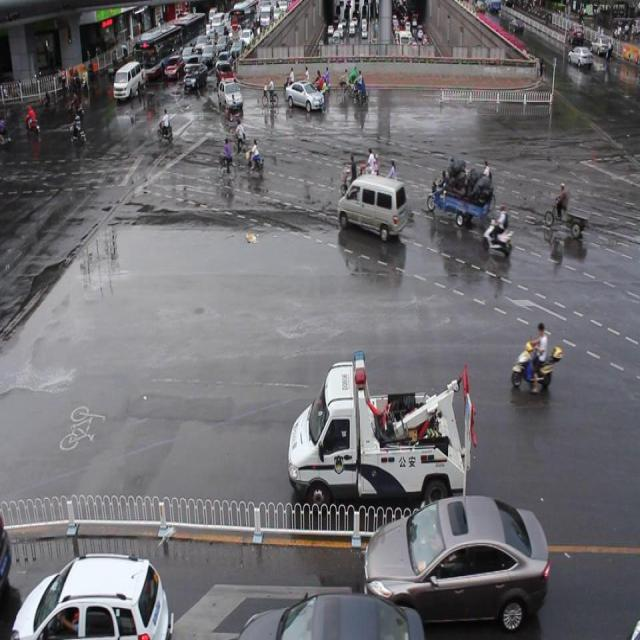bus: (287, 352, 473, 518)
car: (364, 493, 548, 628), (14, 553, 168, 640), (240, 595, 424, 640), (284, 81, 324, 115), (218, 79, 242, 114)
truck: (336, 173, 406, 242)
